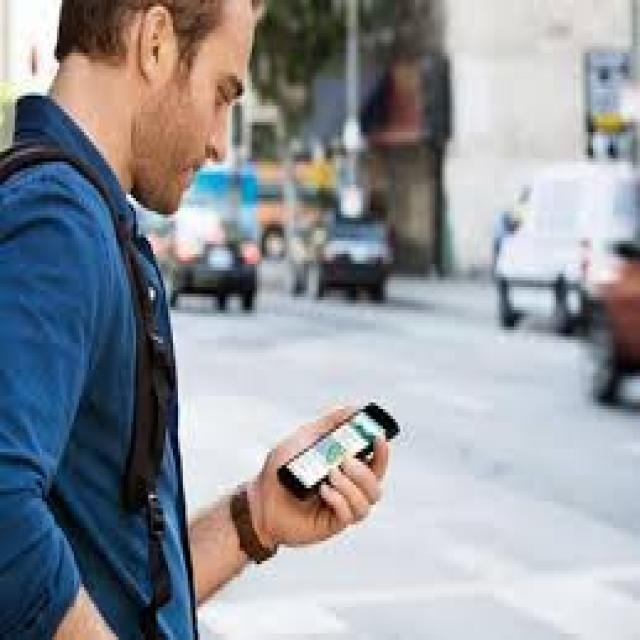mobile: (257, 382, 399, 534)
person: (29, 5, 409, 640)
